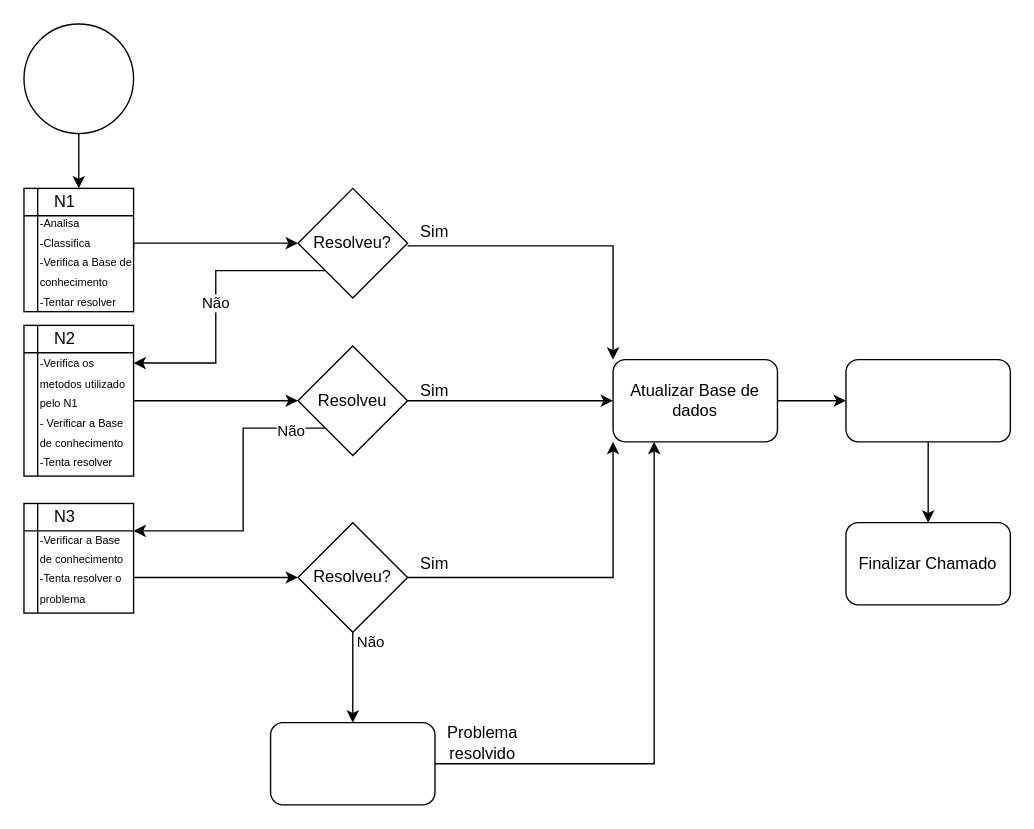
Some shapes in this 1034 by 829 pixel diagram are drawn without their labels. Here are the shapes that lost their labels. From the top down, the centre of each, then its label:
point 78,78: Abertura de chamado
point 927,400: Feedback do cliente
point 352,763: Visita técnica
